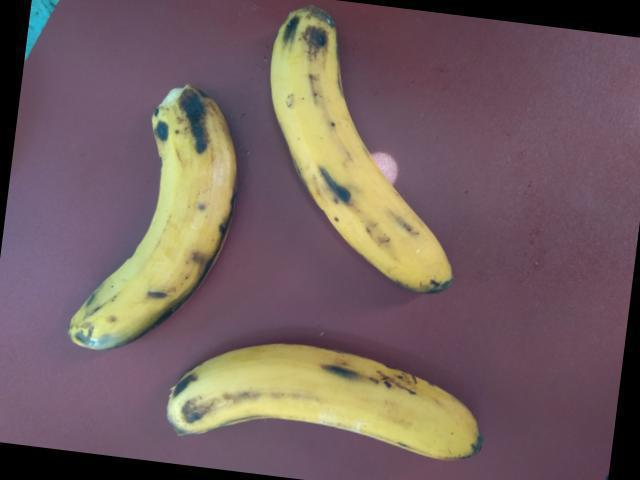overripe: (260, 0, 469, 302), (34, 67, 234, 370), (142, 332, 526, 478)
